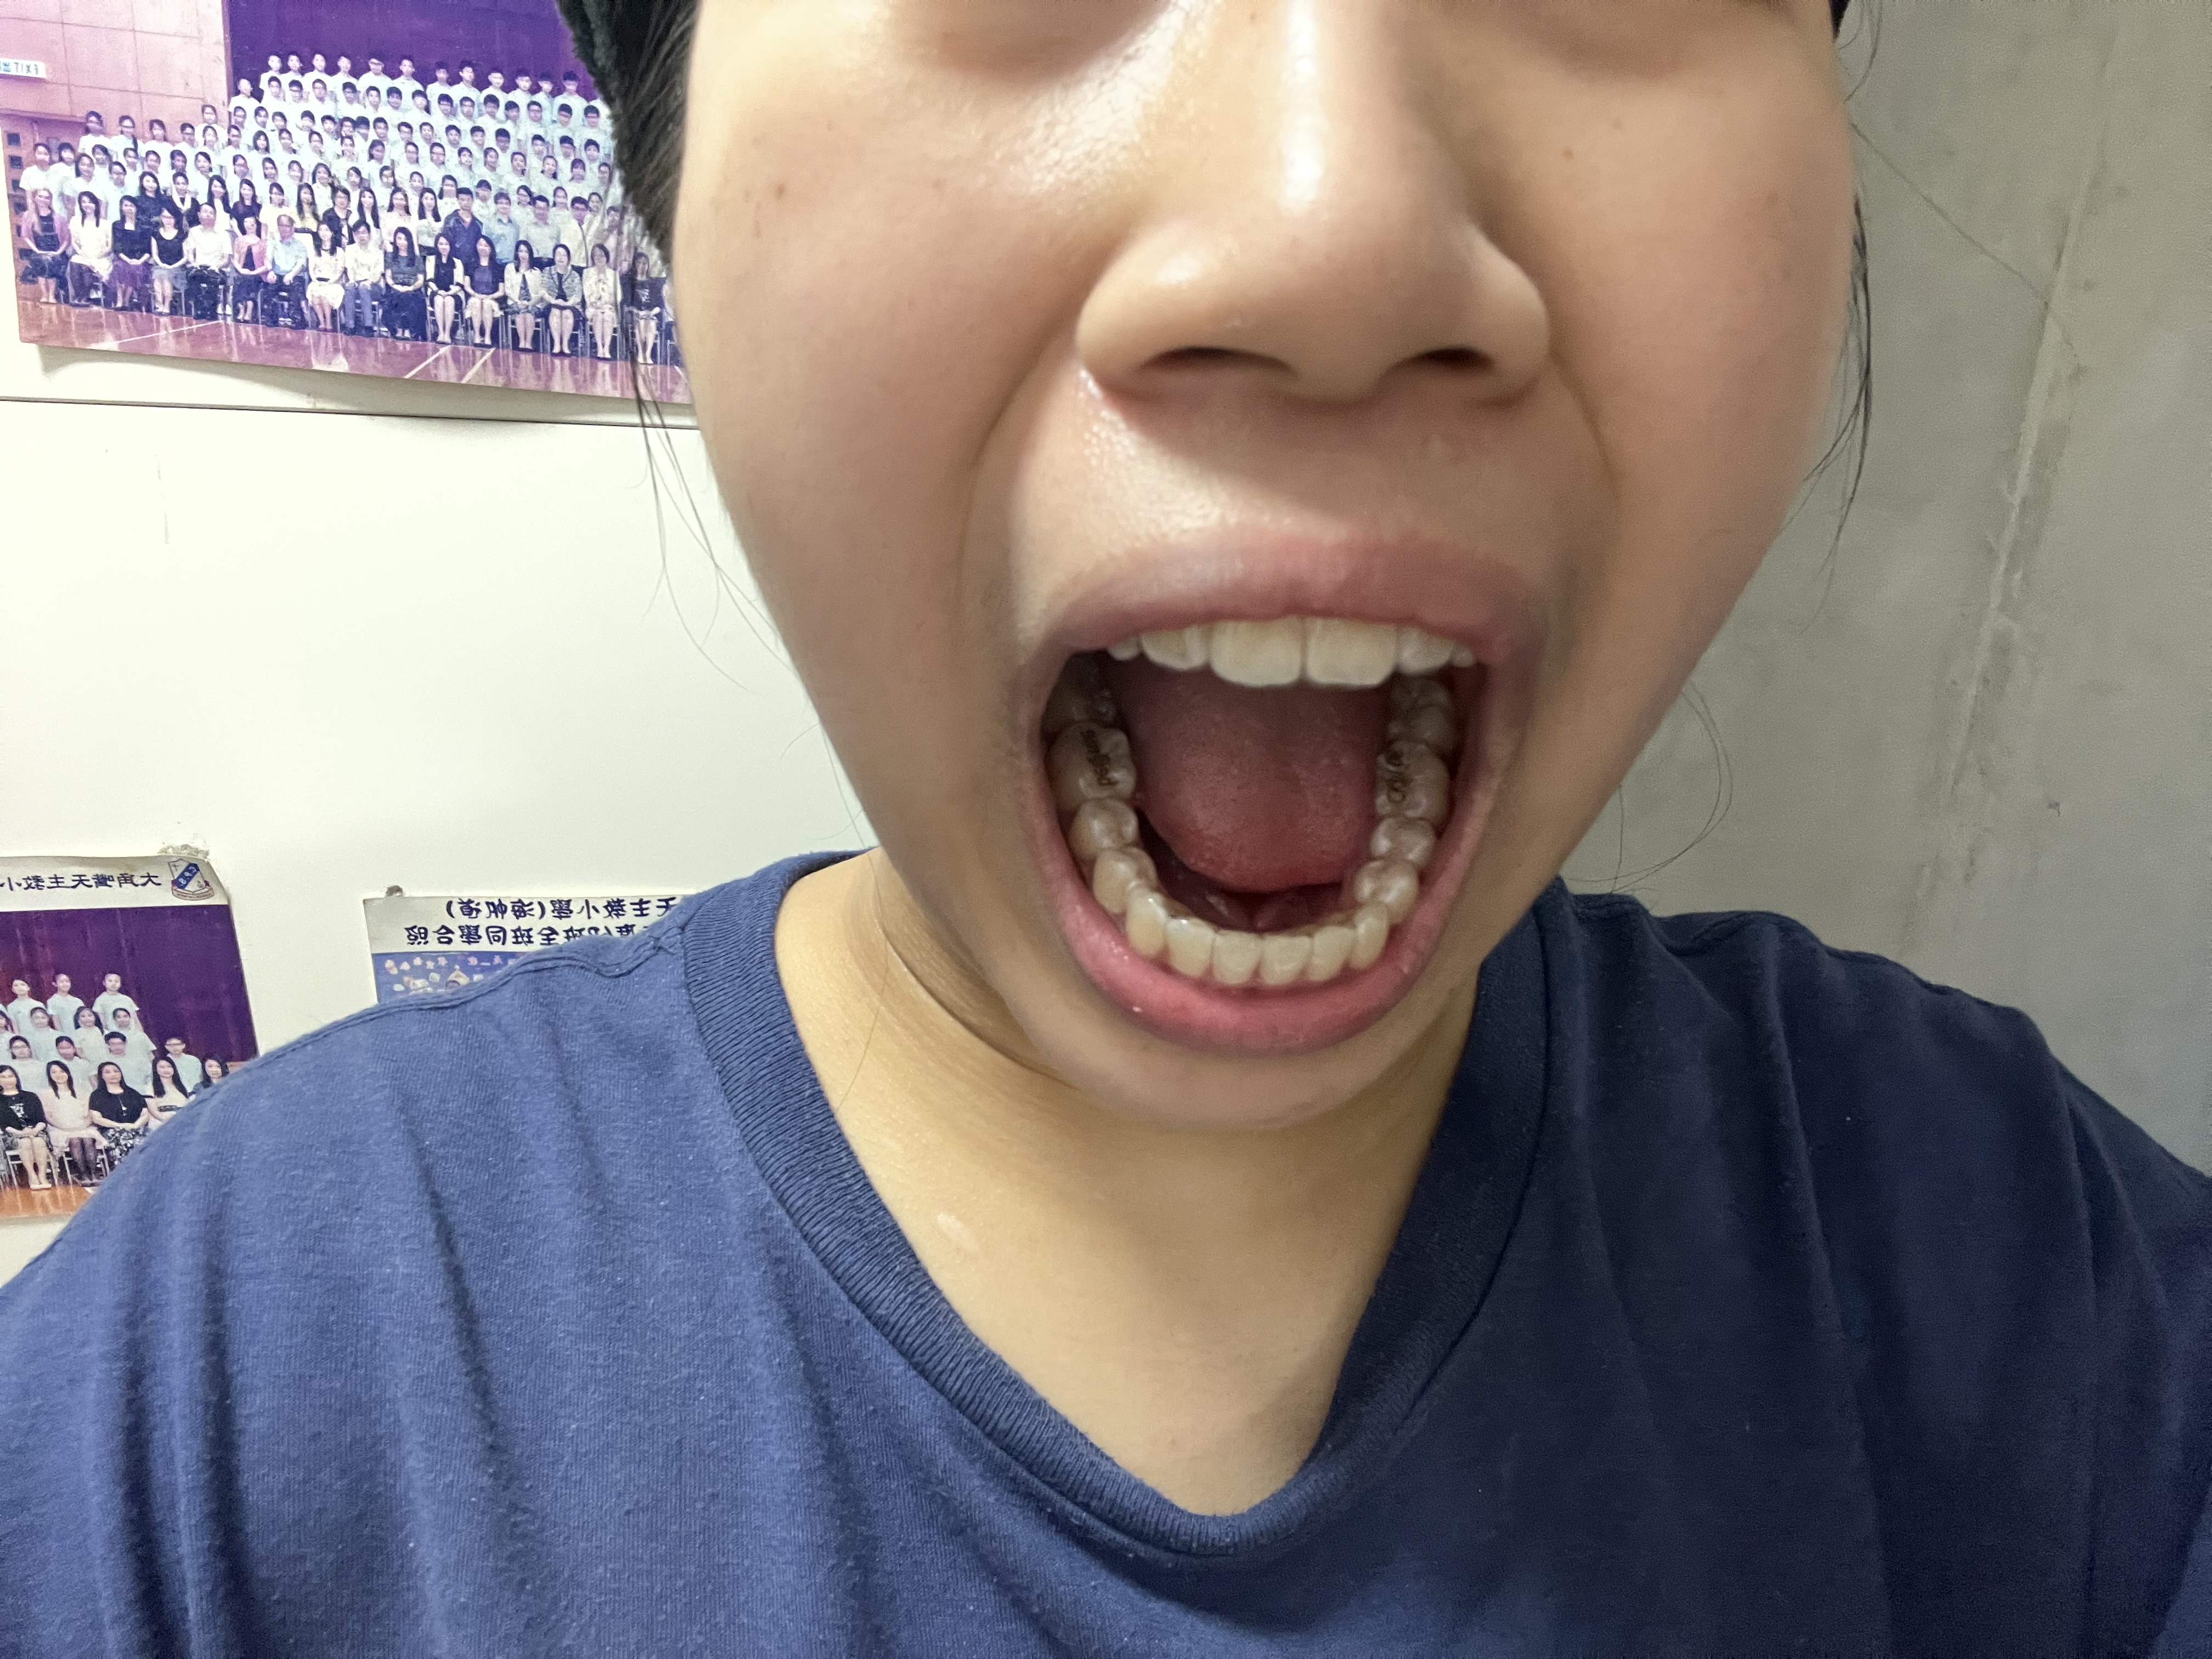teeth: (1062, 721, 1137, 796), (1372, 748, 1447, 821), (1318, 622, 1393, 687), (1223, 624, 1299, 683), (1097, 847, 1157, 901), (1395, 680, 1454, 734), (1071, 802, 1141, 845), (1359, 861, 1423, 908), (1163, 922, 1209, 983), (1357, 904, 1393, 972), (1315, 925, 1357, 976), (1378, 823, 1430, 863), (1146, 631, 1207, 664), (1132, 894, 1165, 955), (1406, 634, 1460, 671), (1214, 936, 1256, 981), (1266, 934, 1308, 979)
